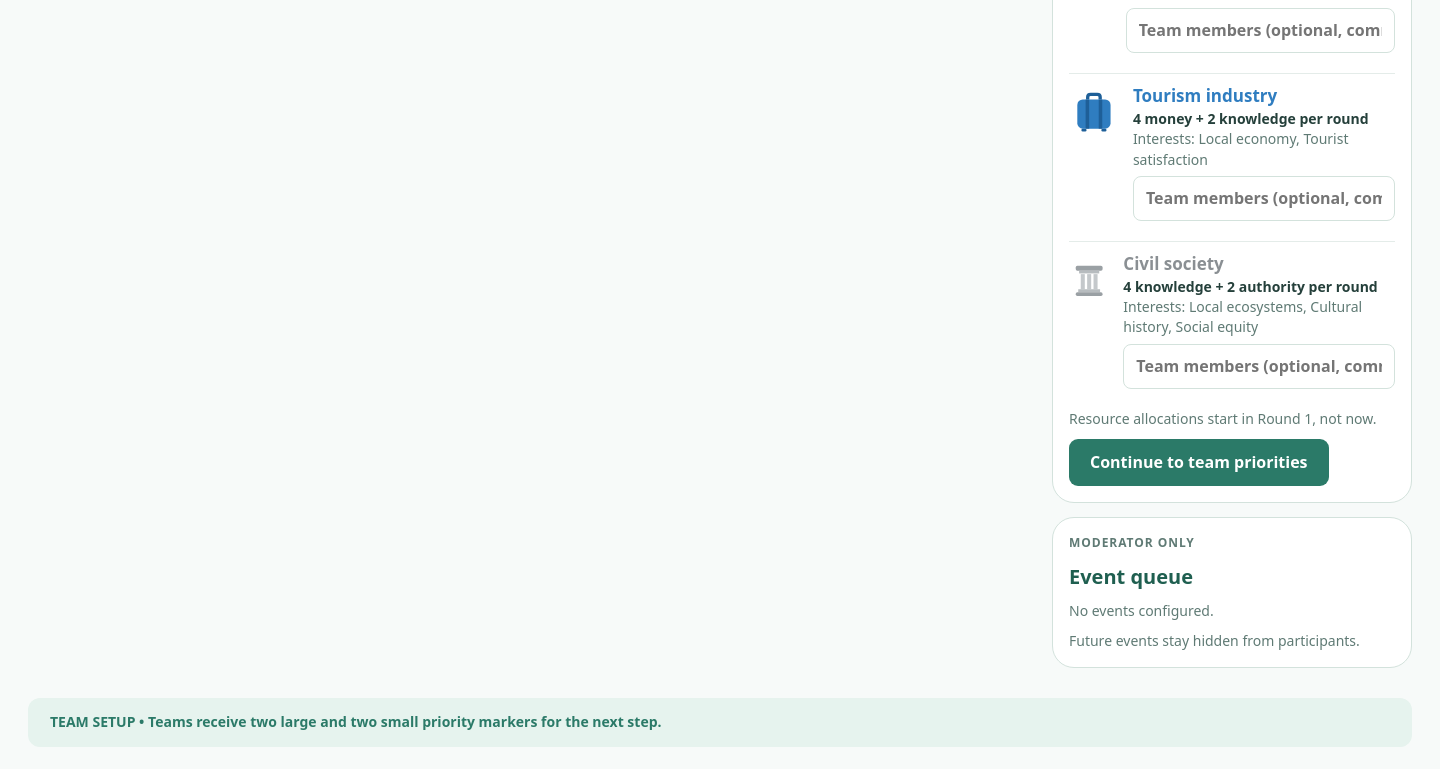
ModeratorPage › places priority markers on the board by picking a marker and then an element
(page scrolled)
Click the button "Continue to team priorities" at {"x": 1199, "y": 463}, box 1069,439 -> 1329,486
(page scrolled)
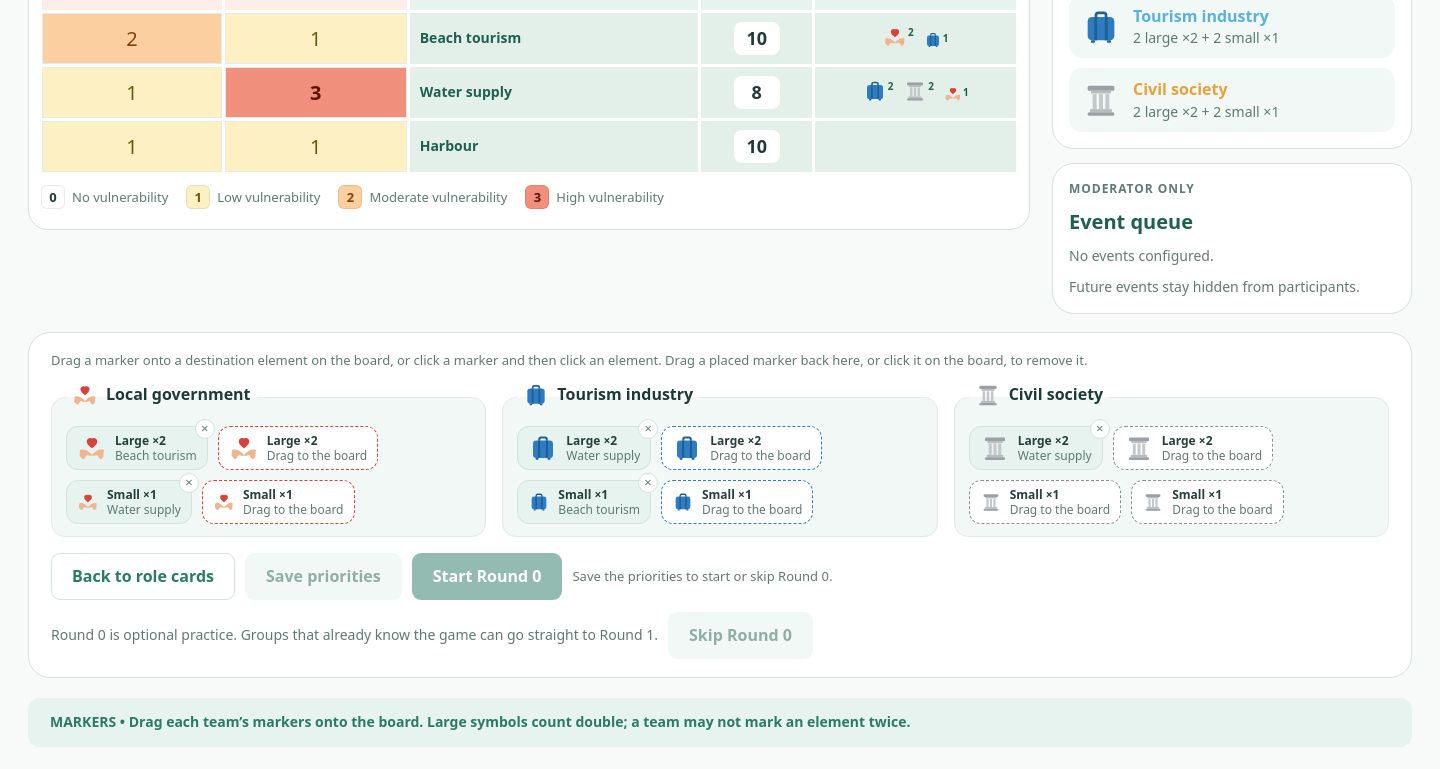
Click the button with aria-label "Local government large marker 2, not placed" at {"x": 298, "y": 448}, box 218,426 -> 378,470
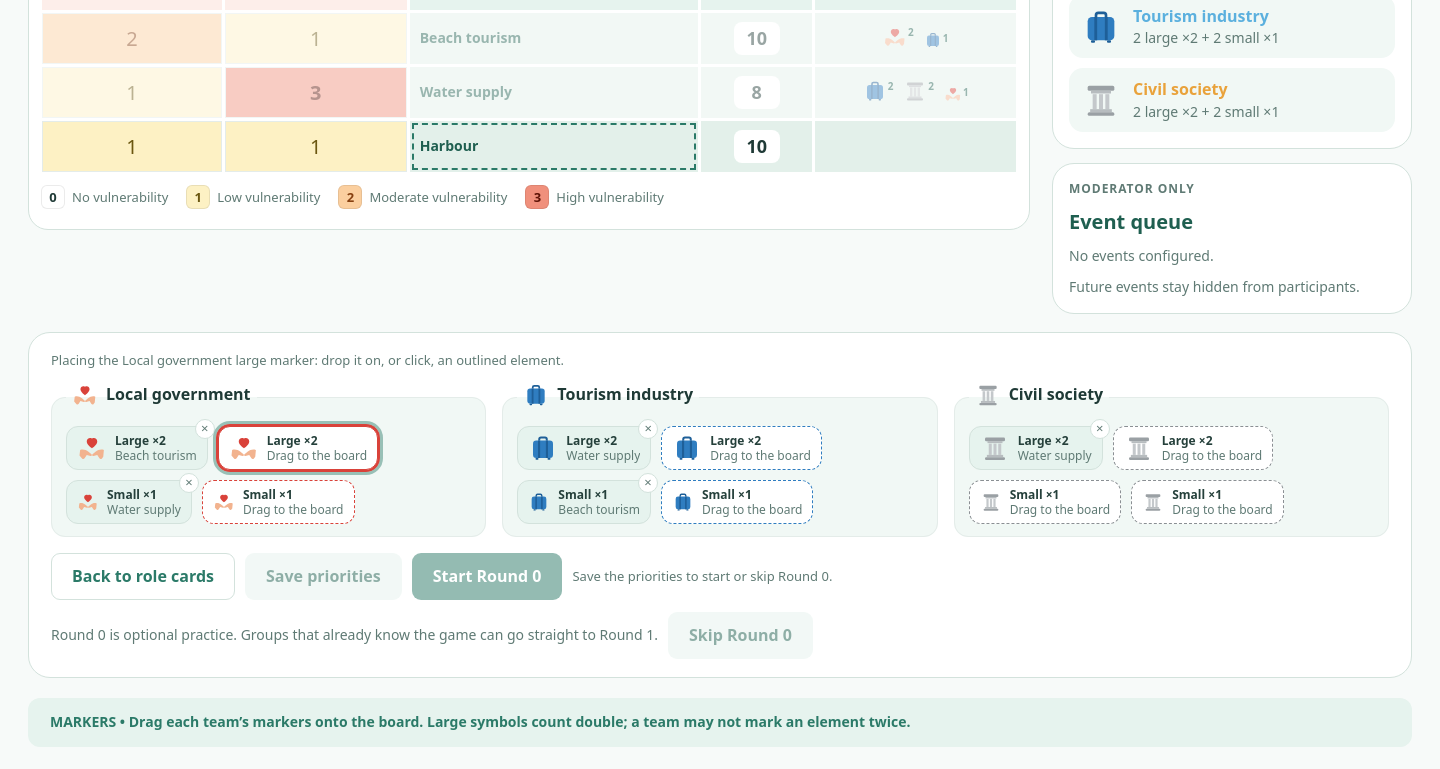
Now the row "2 1 Beach tourism 10 2 1" has class "is-blocked", box 42,13 -> 1016,64
Click the button "Harbour" at {"x": 449, "y": 146}, box 420,136 -> 688,157
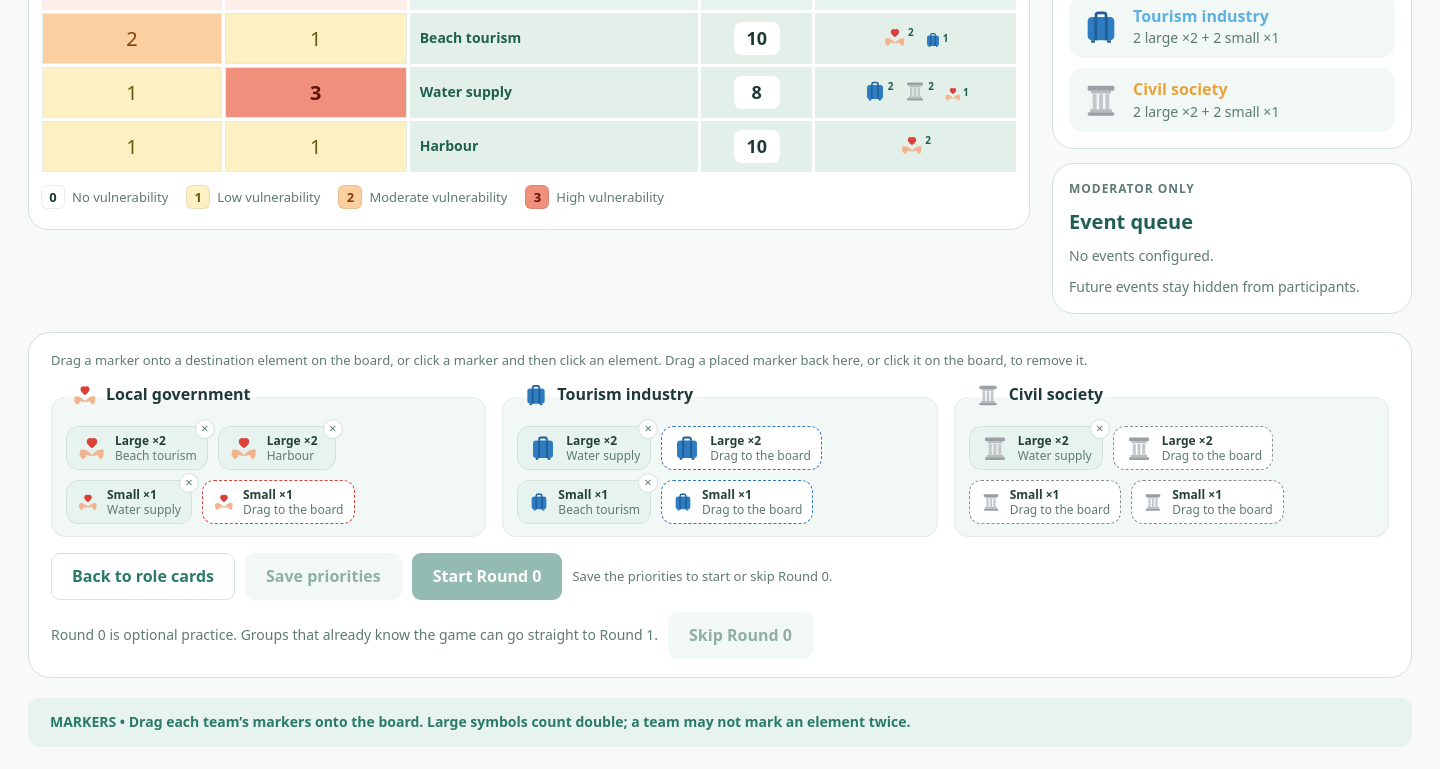
Now the button with aria-label "Local government large marker 2, on Harbour" is shown, box 218,426 -> 336,470
Click the button named "Remove the Local government large marker from Harbour" at {"x": 916, "y": 145}, box 897,130 -> 934,160
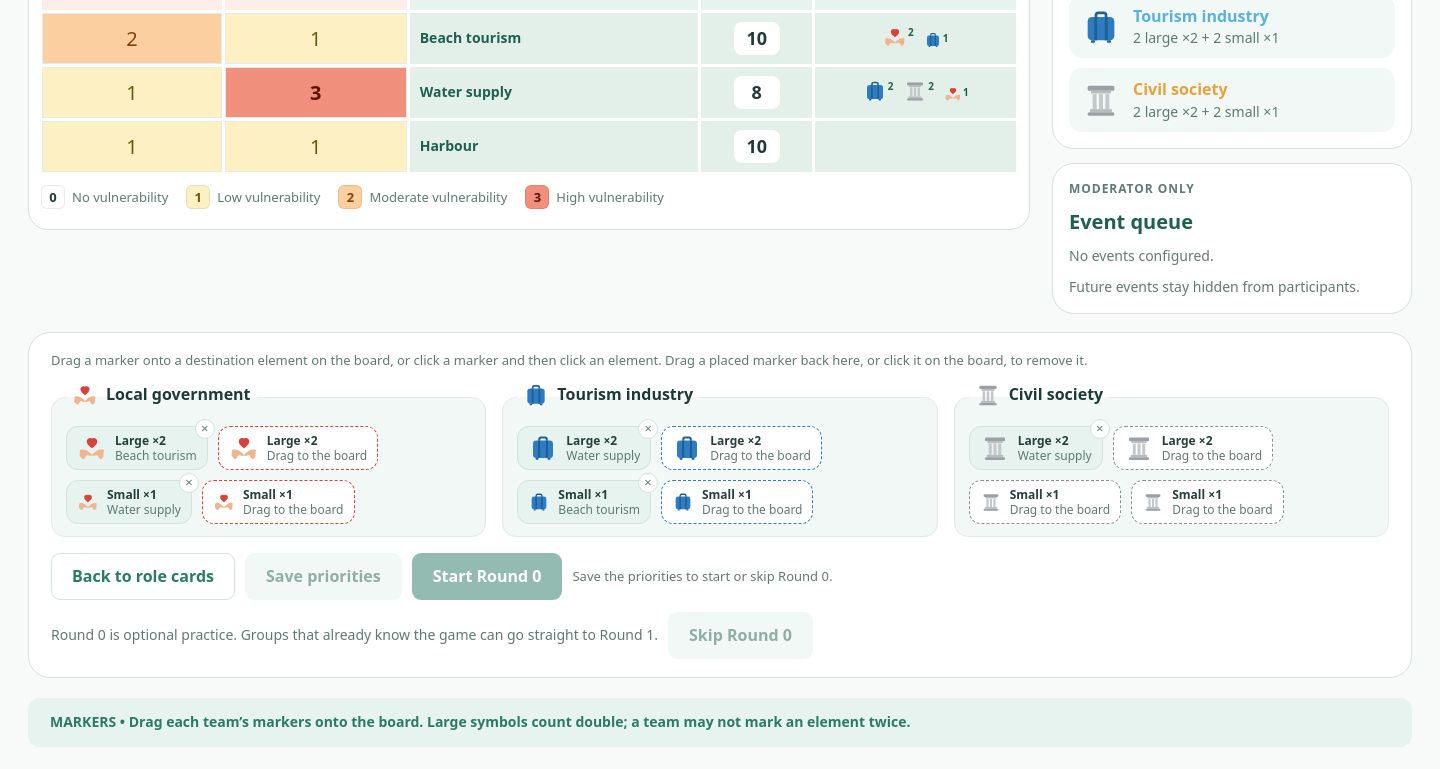
Now the button with aria-label "Local government large marker 2, not placed" is shown, box 218,426 -> 378,470
